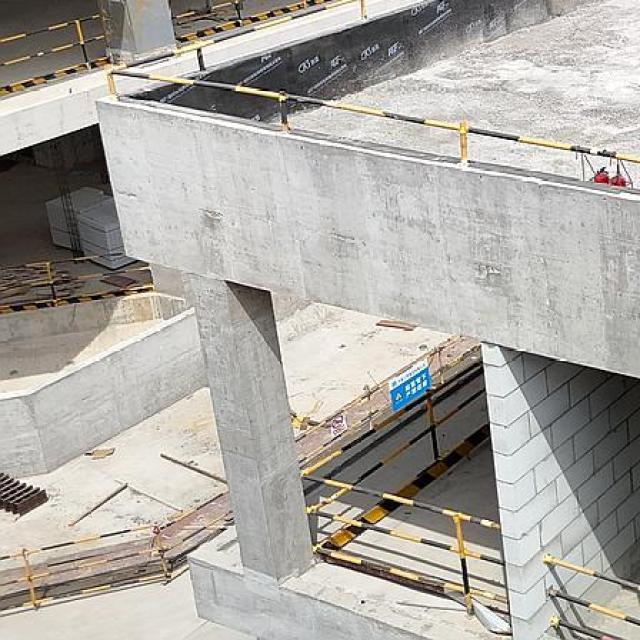edge_guardrail: (107, 0, 640, 163), (300, 357, 510, 616), (0, 252, 156, 308), (541, 553, 640, 640), (0, 13, 109, 90), (172, 0, 308, 40)
